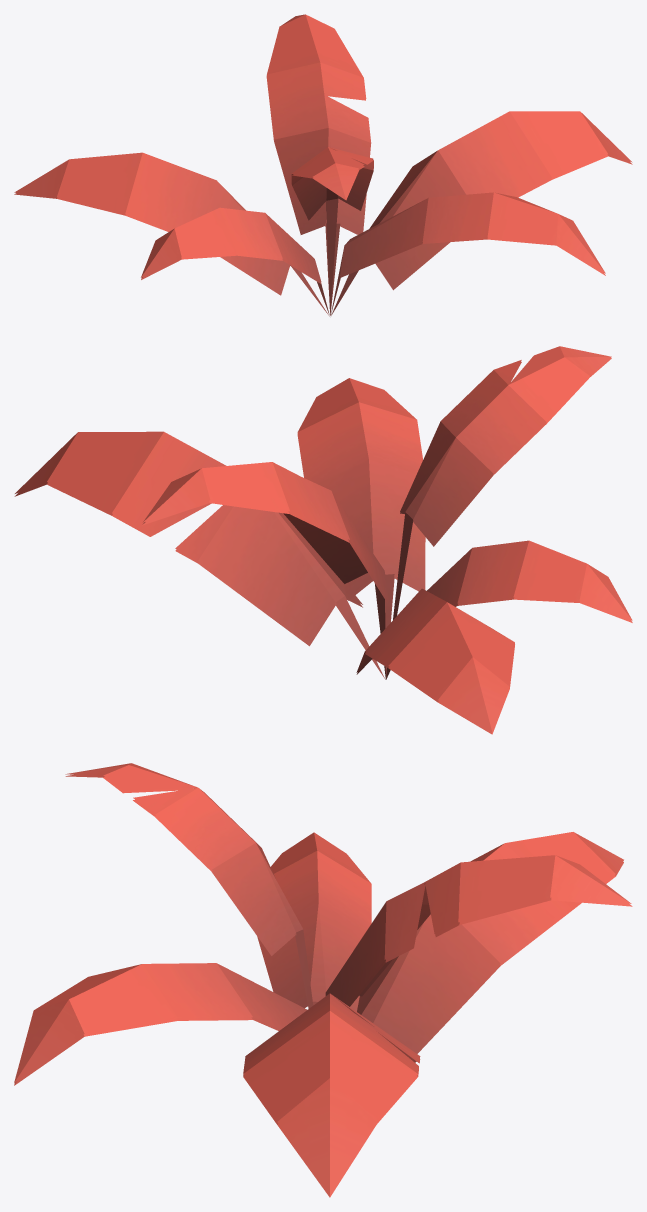
Rendered from model_polytope_plant03.fbx.
3 views of the same model, one above another, from view 1: azimuth 30°, elevation 25°; view 2: azimuth 150°, elevation 25°; view 3: azimuth 270°, elevation 25° (orthographic). The views are drawn at different scales.
Visible parts, largest first — view 1: model_polytope_plant03; view 2: model_polytope_plant03; view 3: model_polytope_plant03.
Boxes of the visible parts, bbox=[...] form: model_polytope_plant03: bbox=[14, 14, 632, 316]; model_polytope_plant03: bbox=[14, 346, 632, 734]; model_polytope_plant03: bbox=[14, 763, 632, 1197].
Bounding box in the file's own units: 74.15 × 31.83 × 60.36.
